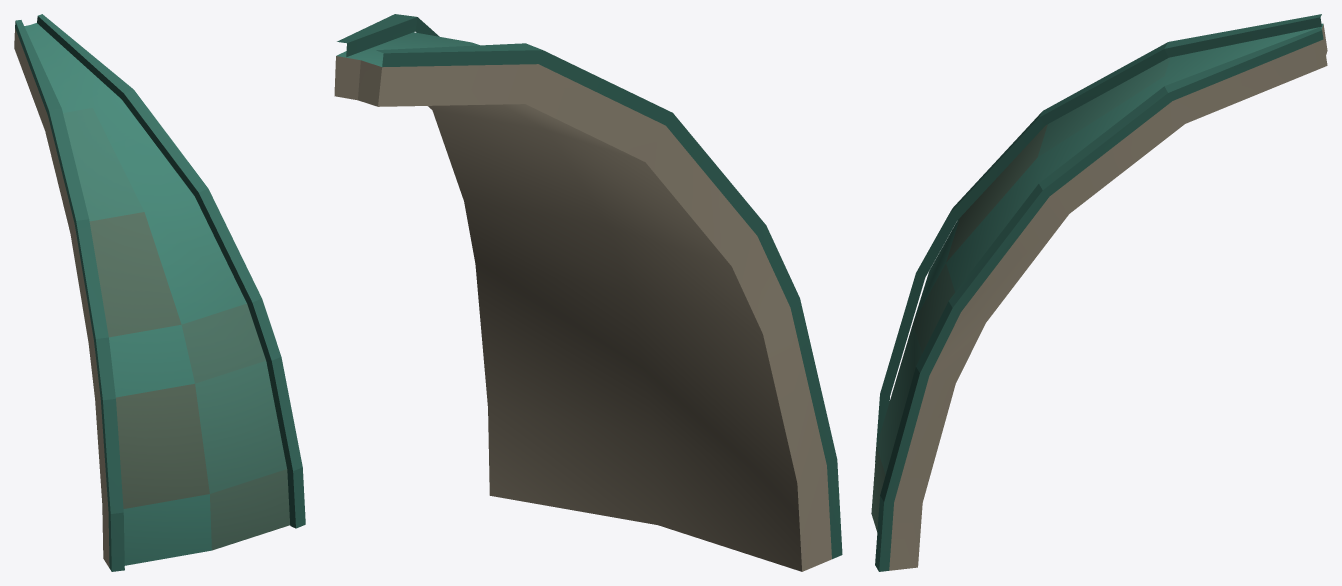
Rendered from dome.panel_12.copper.glb.
The picture shows the model from 3 angles, left to right: view 1: azimuth 30°, elevation 25°; view 2: azimuth 150°, elevation 25°; view 3: azimuth 270°, elevation 25°; orthographic projection. The views are drawn at different scales.
Parts seen in each view (by area): view 1: dome_panel_12_copper; view 2: dome_panel_12_copper; view 3: dome_panel_12_copper.
Part boxes in pixels (bbox=[...]): dome_panel_12_copper: bbox=[14, 14, 305, 571]; dome_panel_12_copper: bbox=[334, 14, 842, 571]; dome_panel_12_copper: bbox=[871, 14, 1327, 571].
Size of what is drawn, in the model's own units: 1.85 by 3.63 by 3.06.
